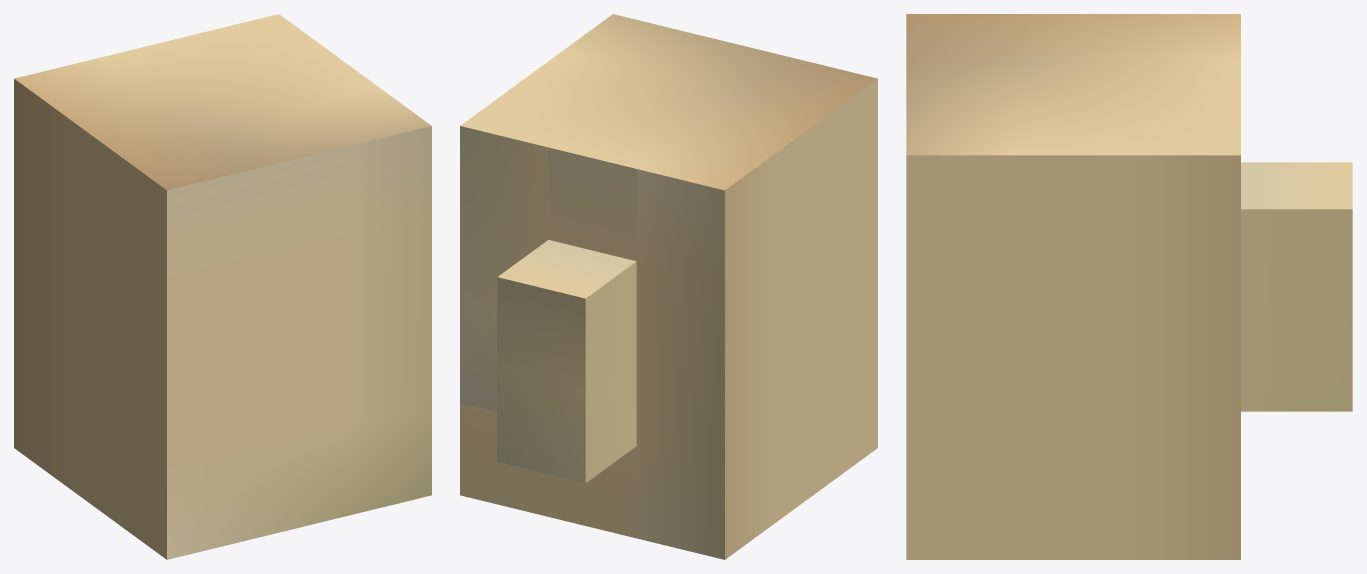
The model's file is MugCream_00.obj.
The picture shows the model from 3 angles, left to right: view 1: azimuth 30°, elevation 25°; view 2: azimuth 150°, elevation 25°; view 3: azimuth 270°, elevation 25°; orthographic projection. The views are drawn at different scales.
Parts seen in each view (by area): view 1: MugCream_00; view 2: MugCream_00; view 3: MugCream_00.
Part boxes in pixels (x1,y1,x2,y2): MugCream_00: (14, 14, 431, 559); MugCream_00: (460, 14, 877, 559); MugCream_00: (906, 14, 1352, 559).
Size of the model in its own units: 0.15 by 0.2 by 0.2.
